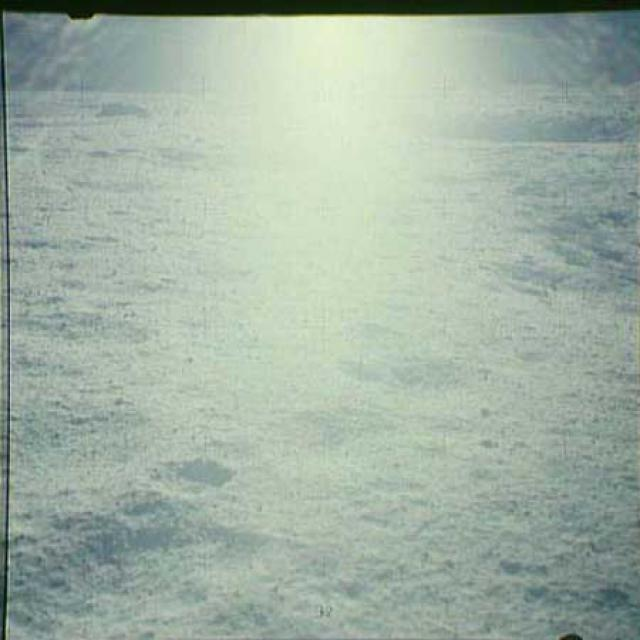crater: (304, 95, 640, 157)
rock: (98, 87, 154, 121)
